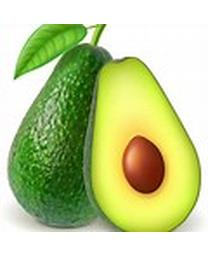avocado: (82, 56, 203, 233), (6, 44, 119, 230)
